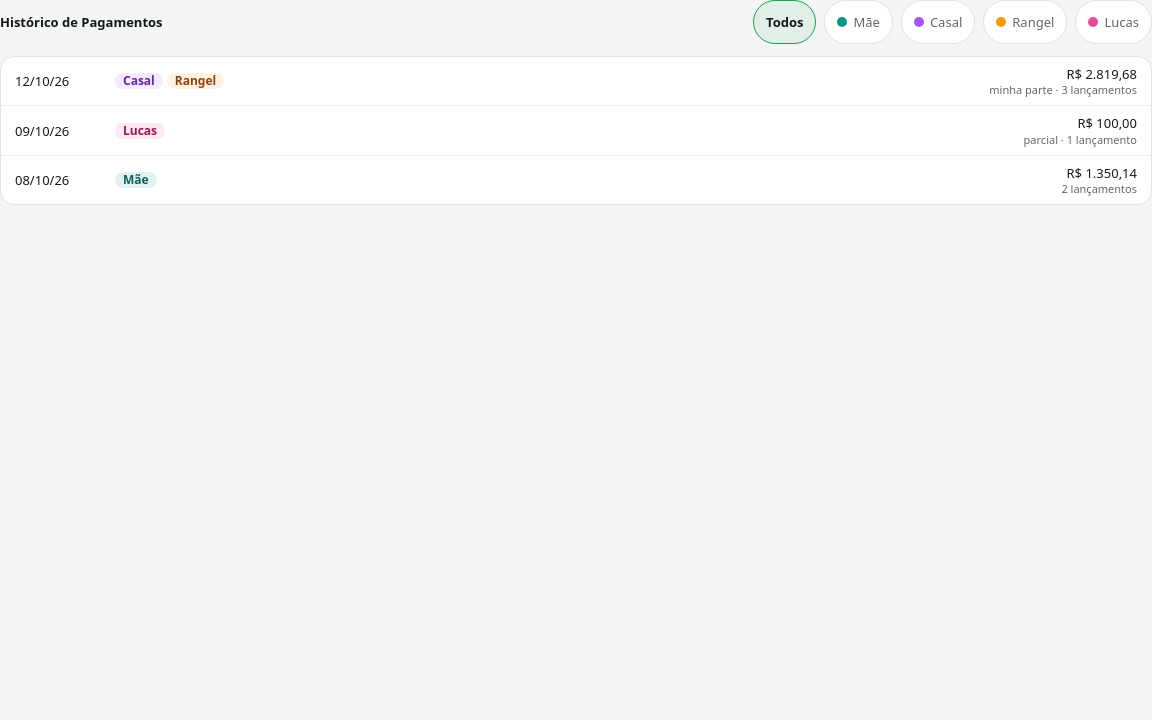
Histórico de Pagamentos: o detalhe › mostra os Lançamentos que o Pagamento quitou, com o valor do item e o Status de antes e o aplicado
Expected: the list named "Pagamentos" is shown, [0,56,1151,206]
Click the button "08/10/26 Mãe R$ 1.350,14 2 lançamentos" at {"x": 42, "y": 180}, box [1,156,1151,204]
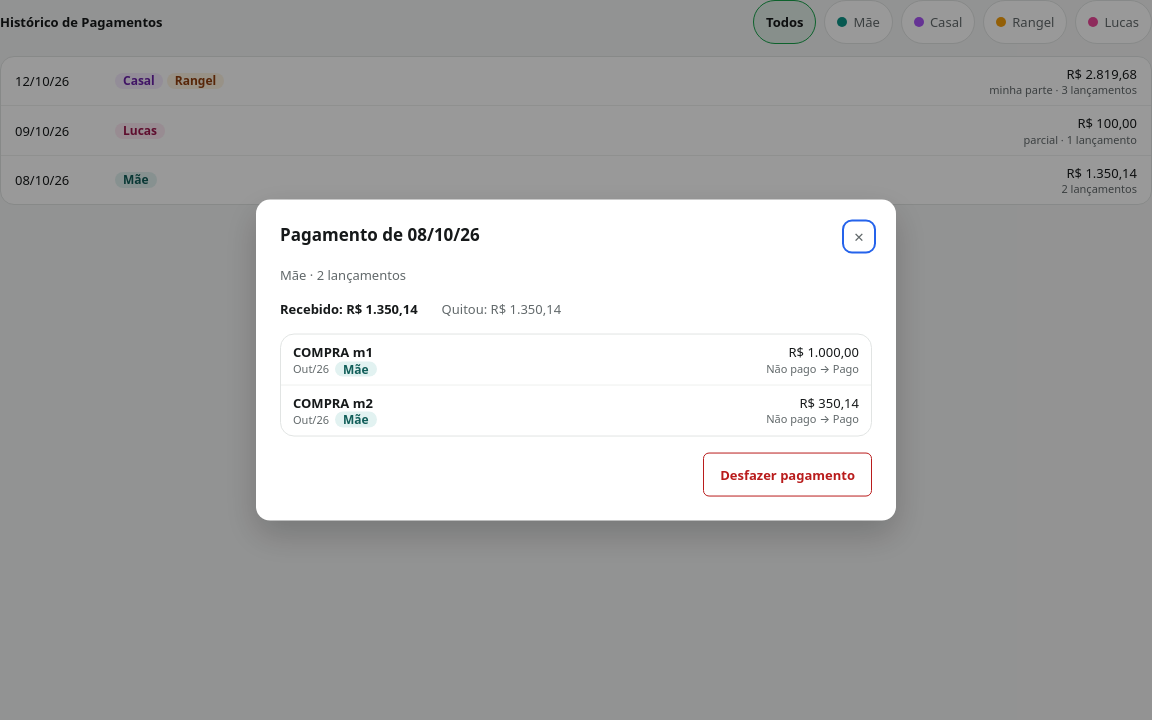
Expected: the heading "Pagamento de 08/10/26" is shown, [280,224,480,246]
Expected: the dialog shows "Recebido: R$ 1.350,14", [280,300,418,318]
Expected: the dialog shows "Quitou: R$ 1.350,14", [442,300,561,318]
